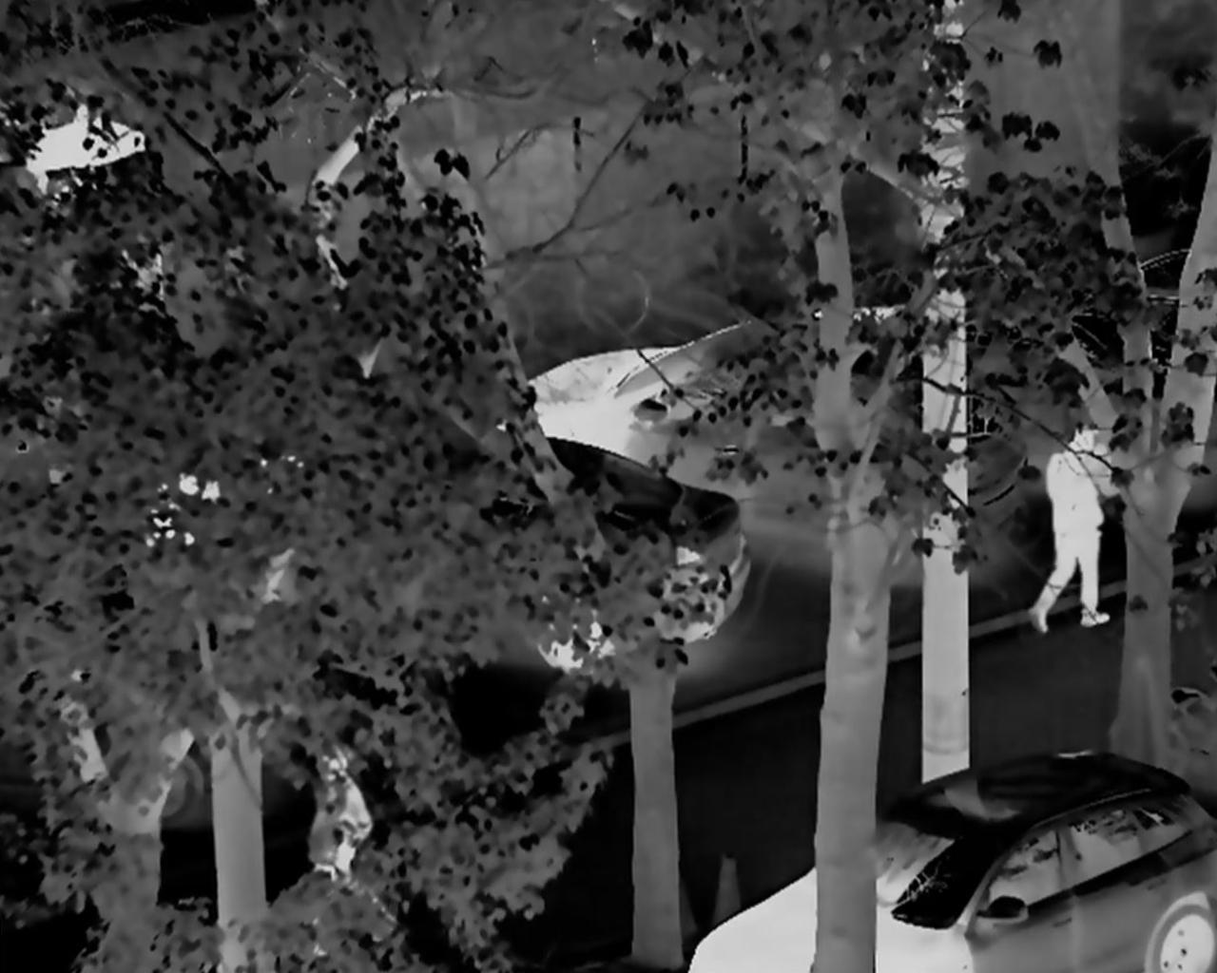person: (1035, 426, 1116, 650), (317, 743, 395, 922)
